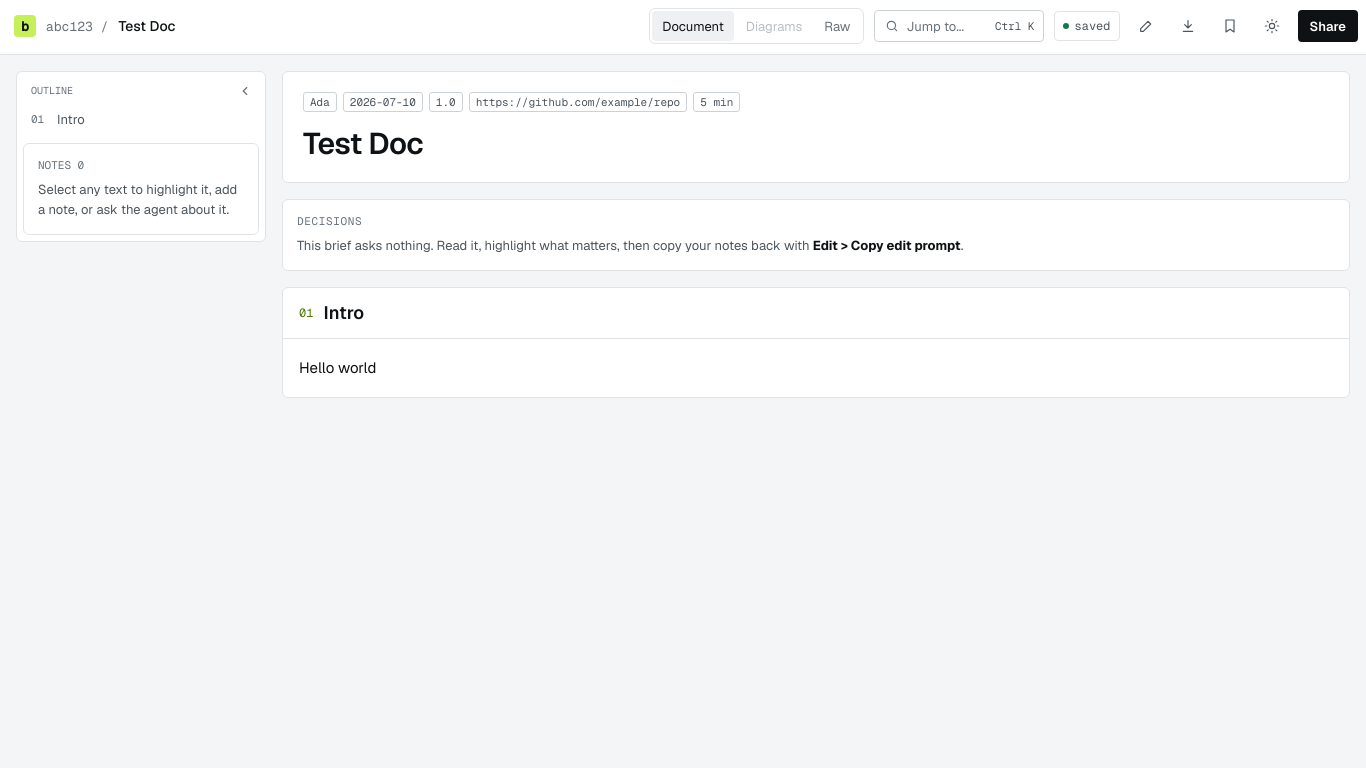
Test: SessionPage / SessionView › an encrypt save keeps the CURRENT decrypted payload on screen (does not drop to the protected-session card)
Expected: the heading "Test Doc" is shown, [303,124,423,163]
Click the button named "Archive": [1230, 26] box [1214,10,1246,42]
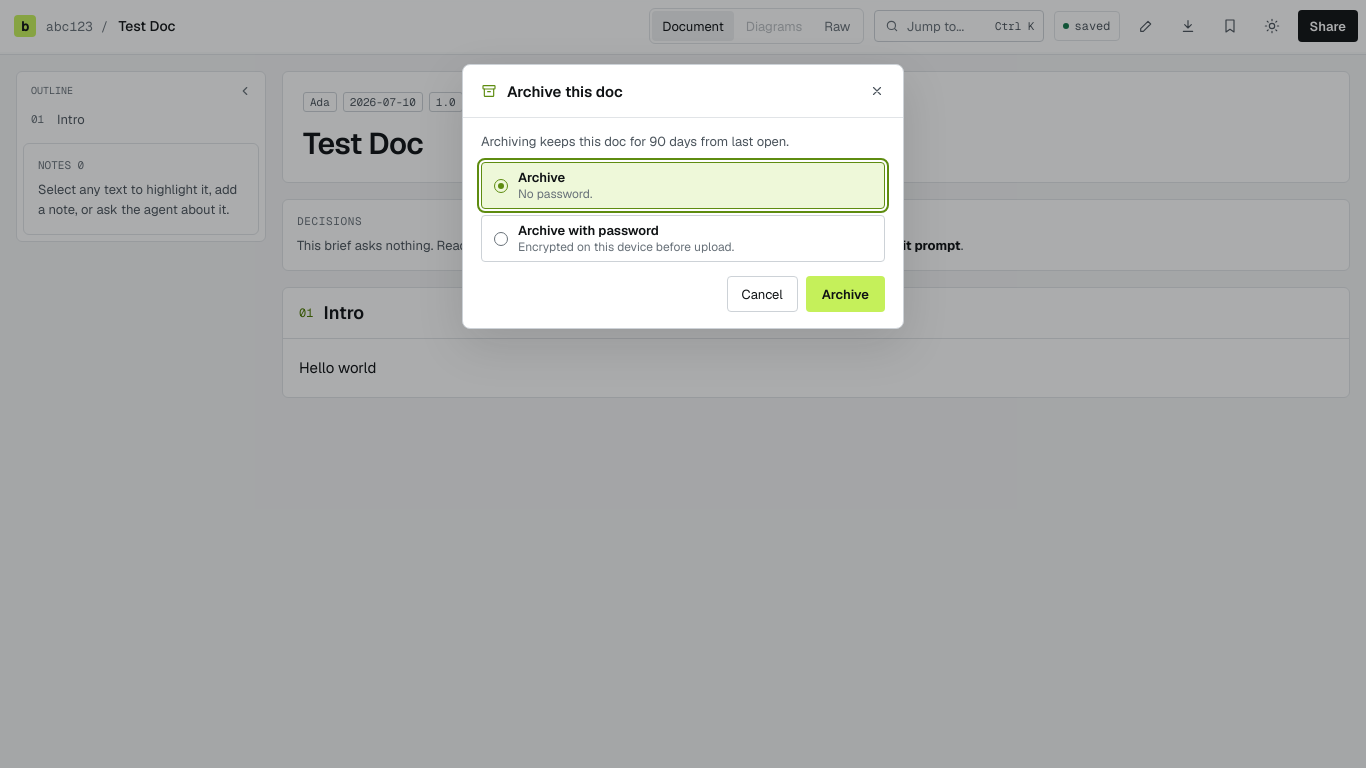
Click the radio button labelled "Archive with password": [683, 238] box [481,215,885,262]
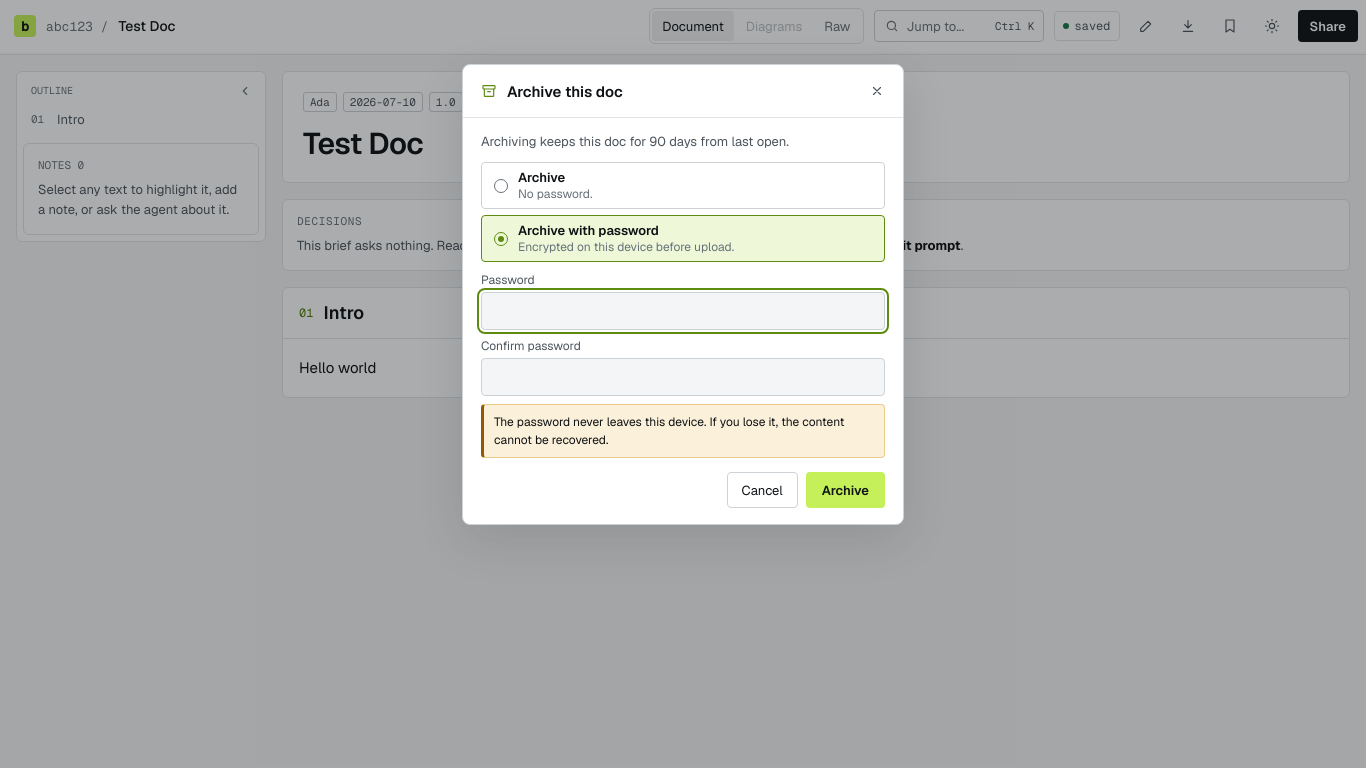
In the password field labelled "Password": [683, 311] box [481,292,885,330], type "password123"
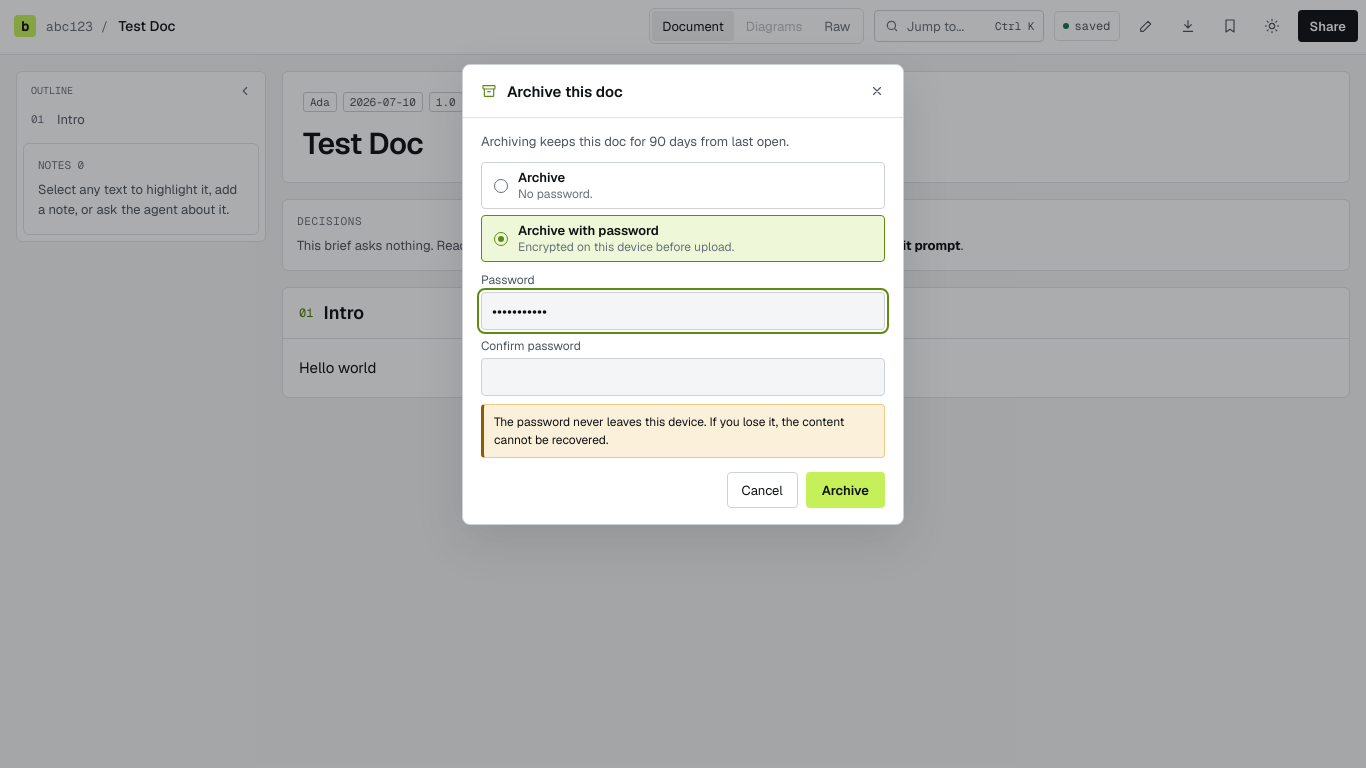
In the password field labelled "Confirm password": [683, 377] box [481,358,885,396], type "password123"
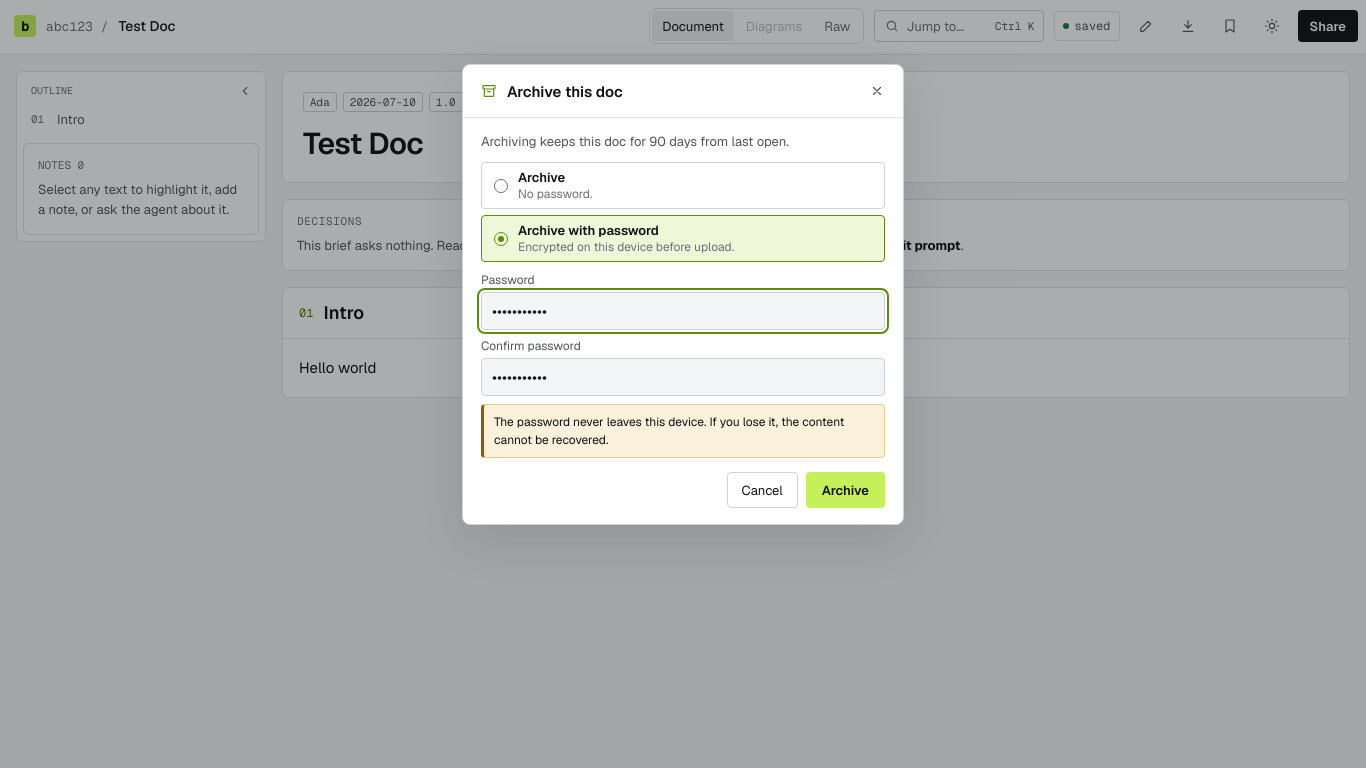
Click the button "Archive": [845, 490] box [806,472,885,508]
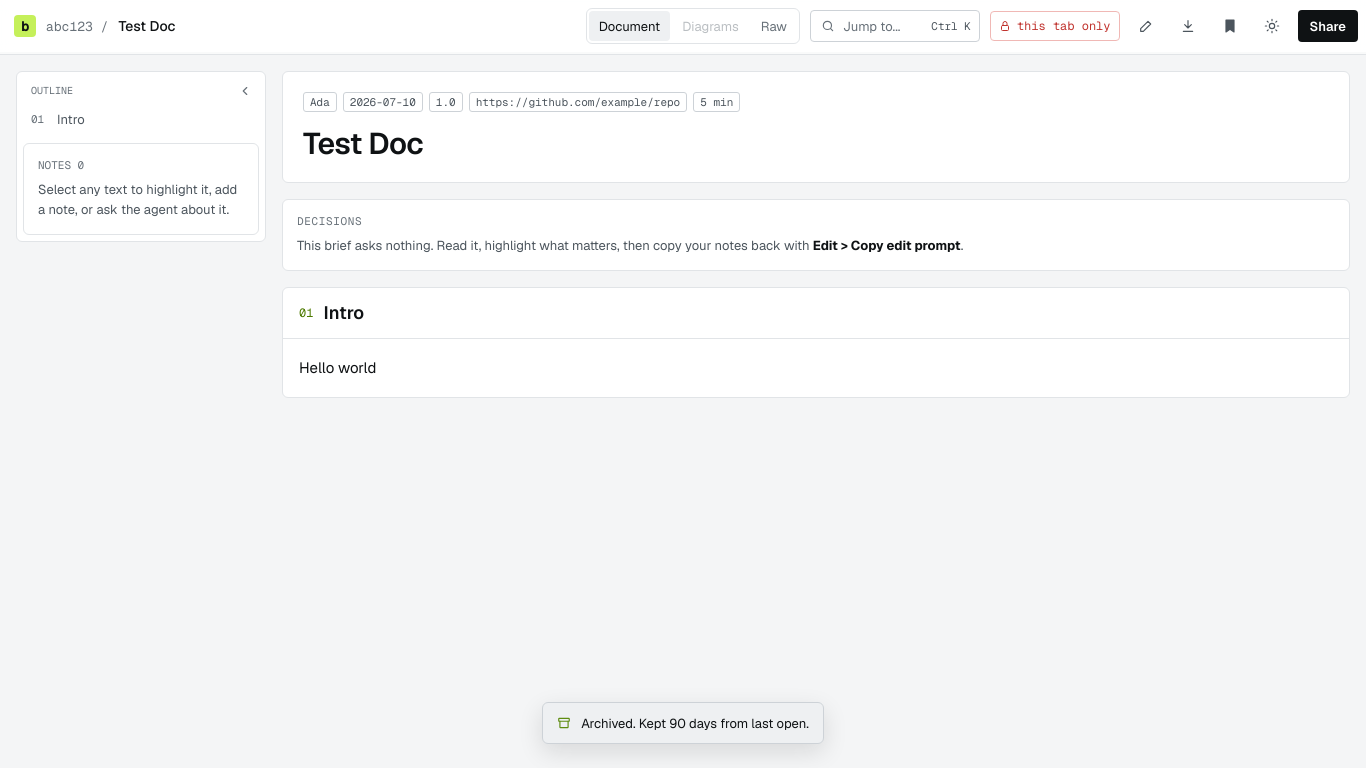
Expected: the heading "Test Doc" is shown, [303,124,423,163]
Now the text "Archive this doc" is gone
Now the message "this tab only" is shown, box [990,11,1120,41]
